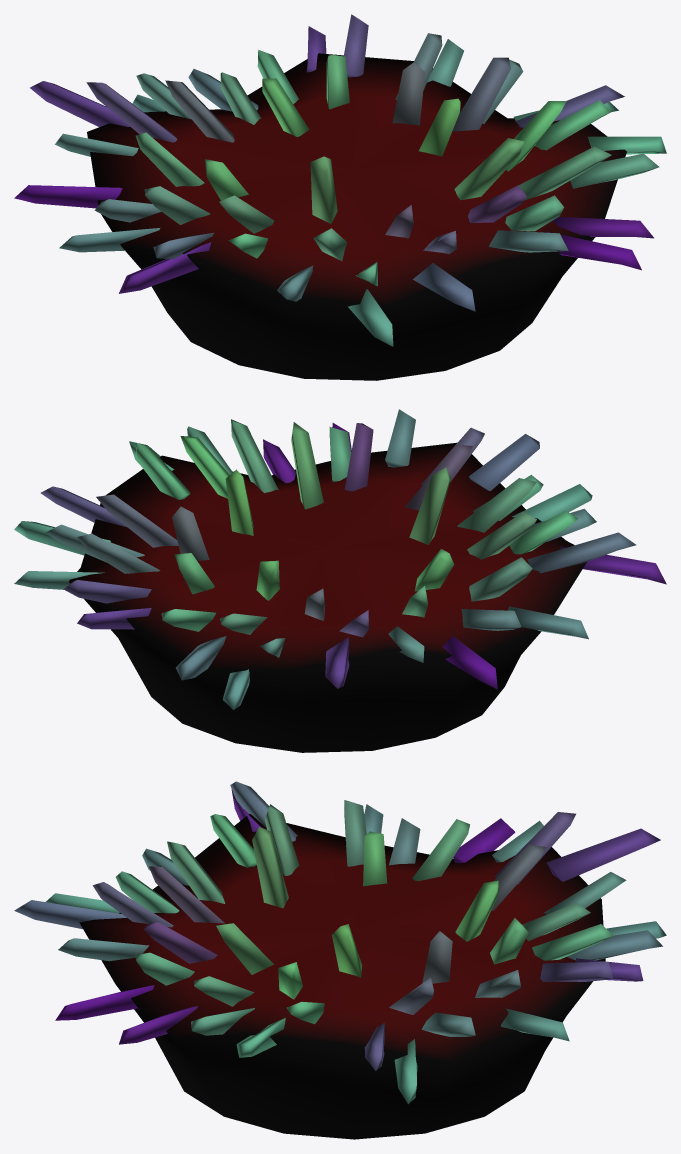
The model's file is clownfish_anemone_lo.glb.
The picture shows the model from 3 angles, top to bottom: view 1: azimuth 30°, elevation 25°; view 2: azimuth 150°, elevation 25°; view 3: azimuth 270°, elevation 25°; orthographic projection. The views are drawn at different scales.
Visible parts, largest first — view 1: clownfish_anemone_lo; view 2: clownfish_anemone_lo; view 3: clownfish_anemone_lo.
Boxes of the visible parts, left/top/right/bottom form: clownfish_anemone_lo: left=14, top=14, right=666, bottom=380; clownfish_anemone_lo: left=14, top=409, right=666, bottom=752; clownfish_anemone_lo: left=14, top=781, right=666, bottom=1139.
Size of the model in its own units: 0.5096 by 0.166 by 0.496.
